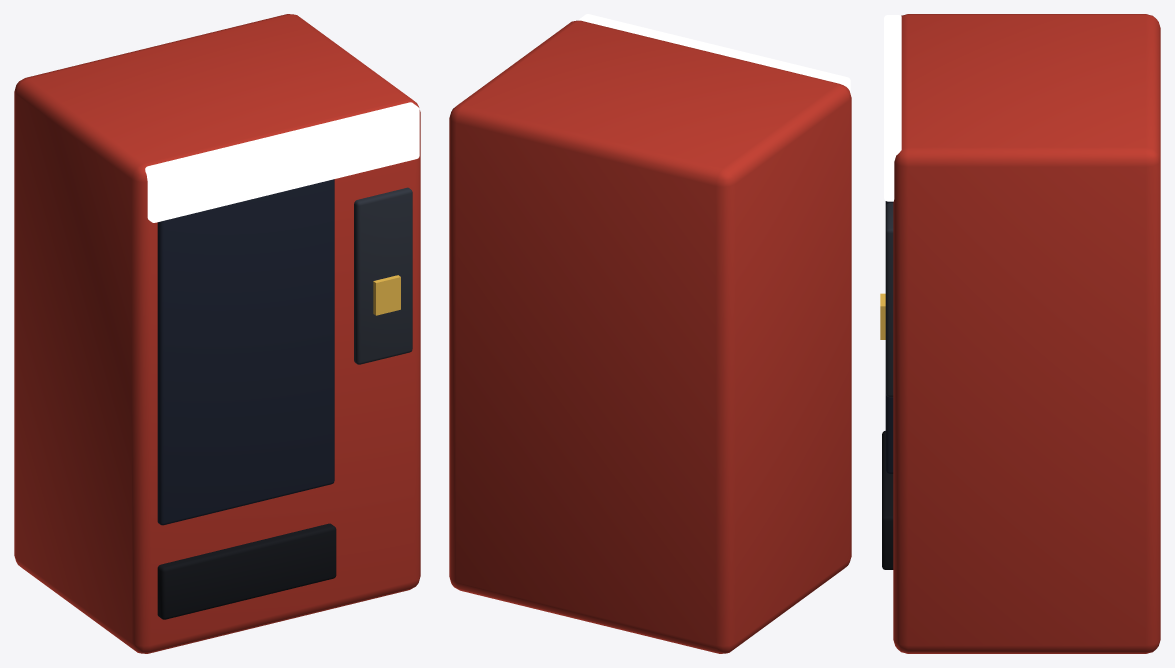
The model's file is vending.glb.
3 views of the same model, side by side, from view 1: azimuth 30°, elevation 25°; view 2: azimuth 150°, elevation 25°; view 3: azimuth 270°, elevation 25° (orthographic). The views are drawn at different scales.
Visible parts, largest first — view 1: body.026, win.002, sign.004, tray.002, panel.002, coin.002; view 2: body.026, sign.004; view 3: body.026, sign.004, panel.002, tray.002, win.002.
Boxes of the visible parts, left/top/right/bottom form: body.026: left=14, top=14, right=420, bottom=653; win.002: left=157, top=179, right=334, bottom=525; sign.004: left=145, top=102, right=419, bottom=222; tray.002: left=157, top=523, right=336, bottom=619; panel.002: left=354, top=187, right=412, bottom=364; coin.002: left=373, top=275, right=400, bottom=315; body.026: left=449, top=20, right=851, bottom=653; sign.004: left=579, top=14, right=850, bottom=93; body.026: left=893, top=14, right=1160, bottom=653; sign.004: left=884, top=15, right=901, bottom=201; panel.002: left=885, top=203, right=893, bottom=397; tray.002: left=882, top=431, right=893, bottom=569; win.002: left=885, top=201, right=893, bottom=473.
Size of the model in its own units: 0.92 by 1.5 by 0.755.
